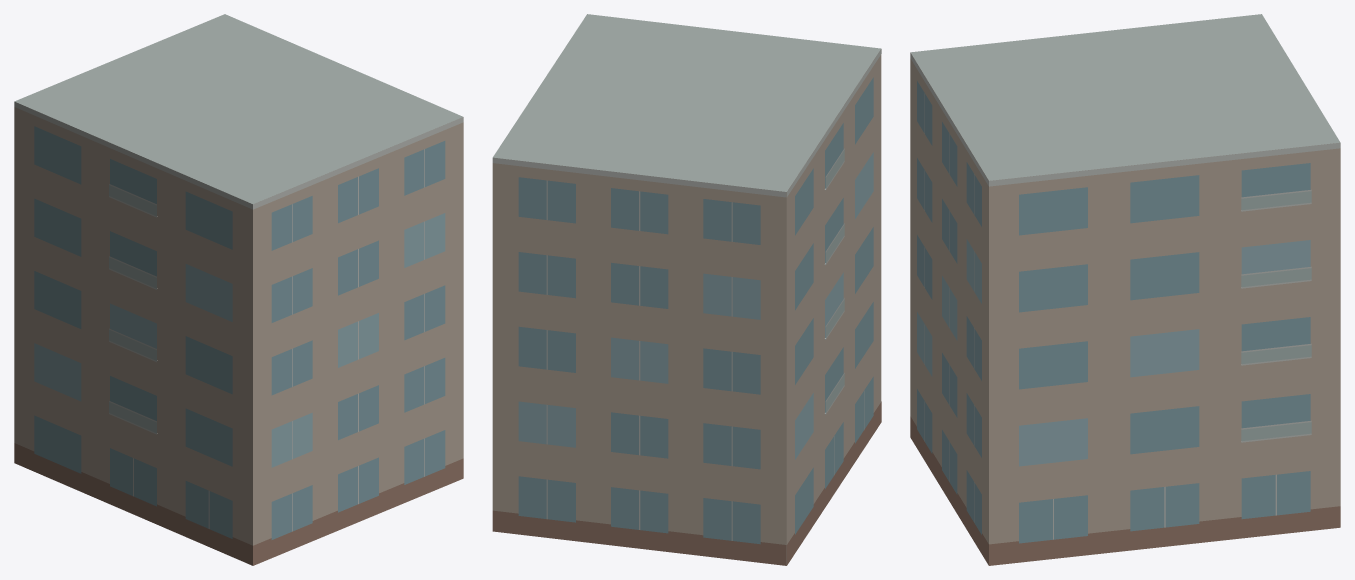
The model's file is survey-upis-32715363.glb.
3 renders of one model, left to right at view 1: azimuth 30°, elevation 25°; view 2: azimuth 150°, elevation 25°; view 3: azimuth 270°, elevation 25°, orthographic. The views are drawn at different scales.
Parts seen in each view (by area): view 1: survey-upis-32715363.tmp; view 2: survey-upis-32715363.tmp; view 3: survey-upis-32715363.tmp.
Boxes of the visible parts, left/top/right/bottom form: survey-upis-32715363.tmp: left=14, top=14, right=463, bottom=565; survey-upis-32715363.tmp: left=492, top=14, right=881, bottom=565; survey-upis-32715363.tmp: left=910, top=14, right=1340, bottom=565.
Bounding box in the file's own units: 15.4 × 16.55 × 16.77.
